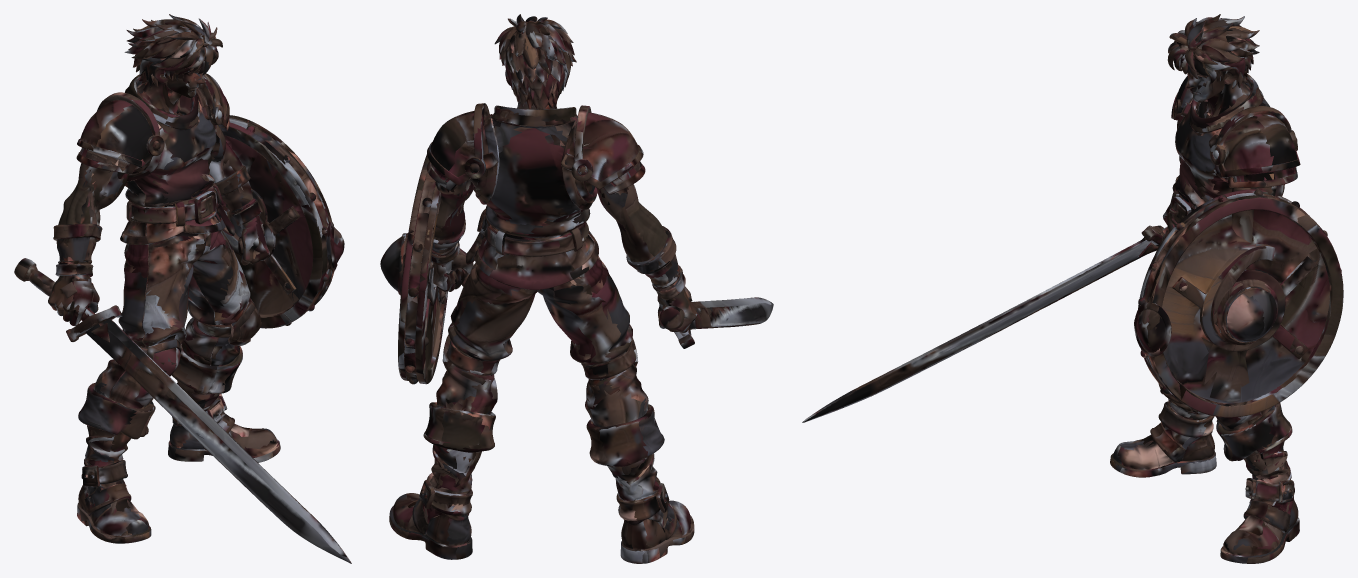
File: GuerreroEquipadoOriginal.fbx
3 views of the same model, side by side, from view 1: azimuth 30°, elevation 25°; view 2: azimuth 150°, elevation 25°; view 3: azimuth 270°, elevation 25° (orthographic). The views are drawn at different scales.
Visible parts, largest first — view 1: Control del idle equipado; view 2: Control del idle equipado; view 3: Control del idle equipado.
Boxes of the visible parts, x1,y1,x2,y2 form: Control del idle equipado: (14, 14, 351, 563); Control del idle equipado: (380, 14, 773, 563); Control del idle equipado: (802, 14, 1343, 563).
Bounding box in the file's own units: 114 × 180 × 179.
